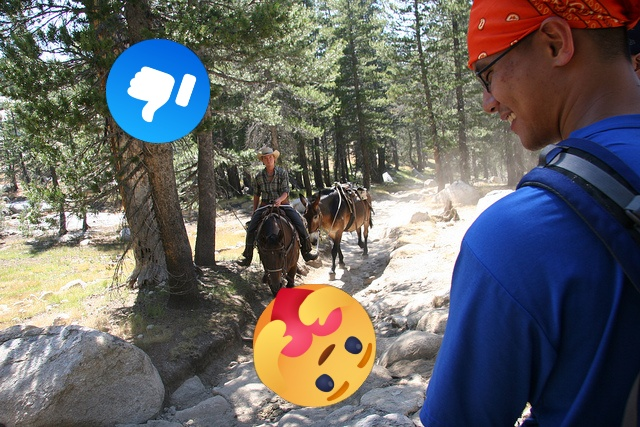care: (253, 284, 376, 407)
like: (106, 39, 210, 143)
